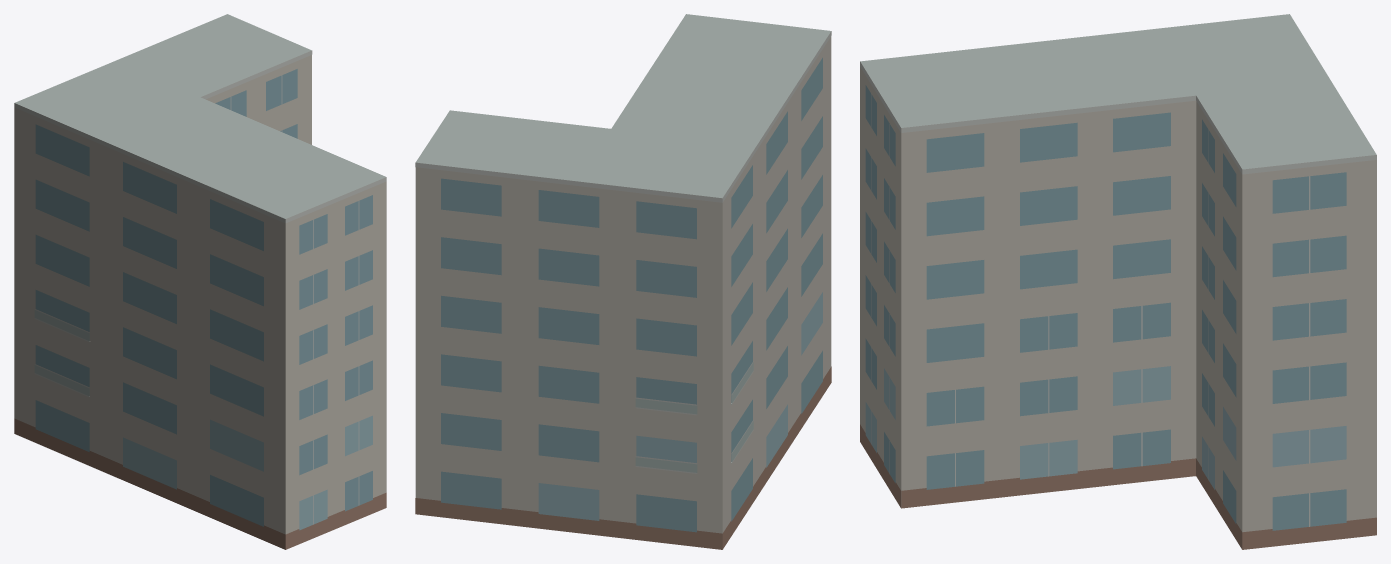
The model's file is survey-upis-32562115.glb.
3 views of the same model, side by side, from view 1: azimuth 30°, elevation 25°; view 2: azimuth 150°, elevation 25°; view 3: azimuth 270°, elevation 25° (orthographic). The views are drawn at different scales.
Visible parts, largest first — view 1: survey-upis-32562115.tmp; view 2: survey-upis-32562115.tmp; view 3: survey-upis-32562115.tmp.
Boxes of the visible parts, <box> form: survey-upis-32562115.tmp: <box>14,14,386,549</box>; survey-upis-32562115.tmp: <box>415,14,831,549</box>; survey-upis-32562115.tmp: <box>860,14,1376,549</box>.
Size of the model in its own units: 16.23 by 18.5 by 22.79.
